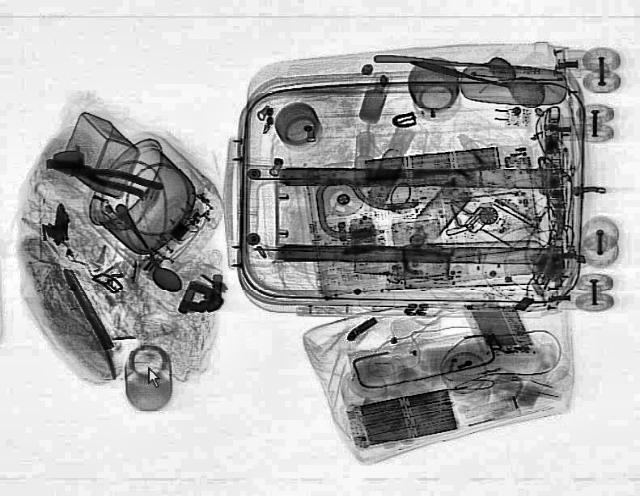Pliers: (42, 151, 165, 201)
